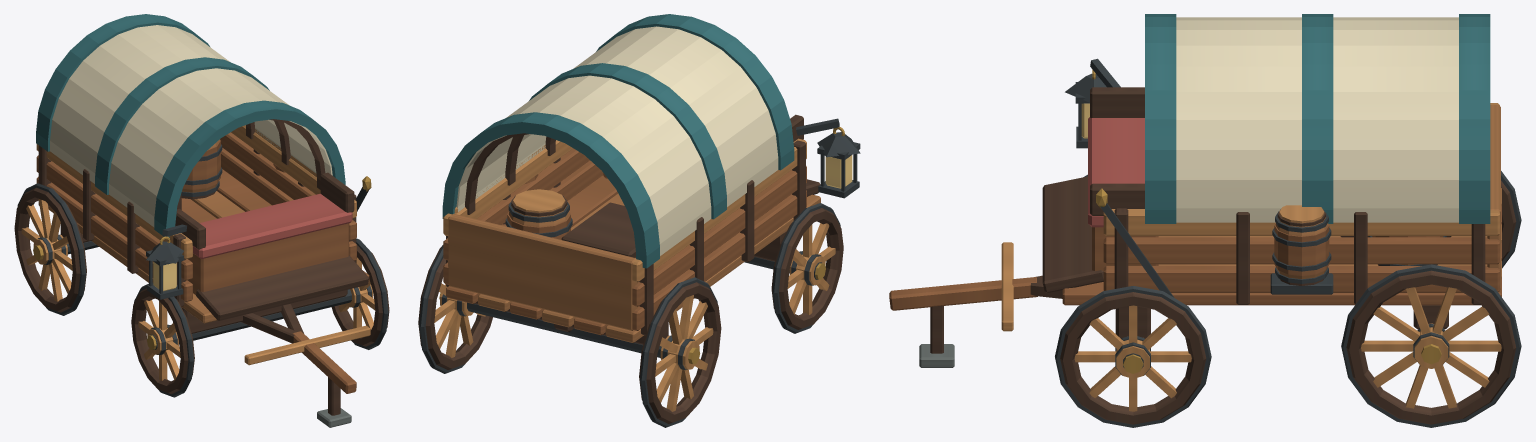
Rendered from merchant_wagon.glb.
The picture shows the model from 3 angles, left to right: view 1: azimuth 30°, elevation 25°; view 2: azimuth 150°, elevation 25°; view 3: azimuth 270°, elevation 25°; orthographic projection. The views are drawn at different scales.
Visible parts, largest first — view 1: merchant_wagon; view 2: merchant_wagon; view 3: merchant_wagon.
Part boxes in pixels (box(x1,y1,x2,y2)): merchant_wagon: box(14, 14, 389, 427); merchant_wagon: box(418, 14, 860, 427); merchant_wagon: box(889, 14, 1521, 427).
Size of the model in its own units: 1.92 by 1.9 by 3.22.
1 material, 1 textured.
